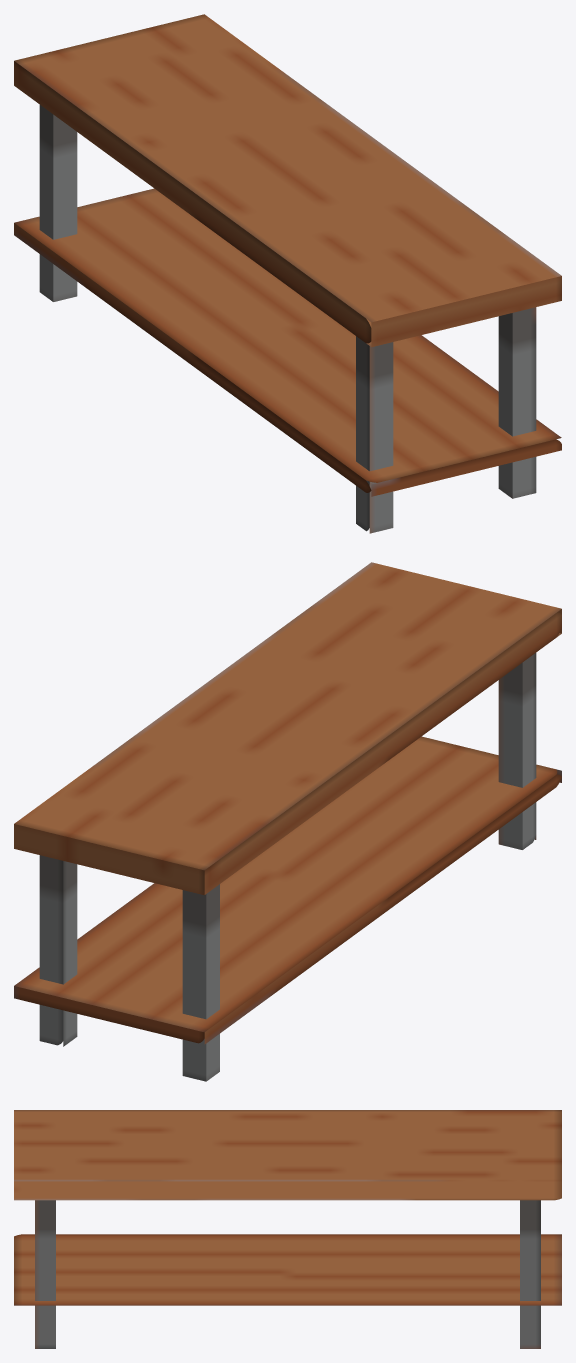
The model's file is Table.fbx.
The picture shows the model from 3 angles, top to bottom: view 1: azimuth 30°, elevation 25°; view 2: azimuth 150°, elevation 25°; view 3: azimuth 270°, elevation 25°; orthographic projection. The views are drawn at different scales.
Parts seen in each view (by area): view 1: cube, cube_1, cube_3, cube_4, cube_2; view 2: cube, cube_1, cube_2, cube_5, cube_3; view 3: cube, cube_1, cube_4, cube_5.
Part boxes in pixels (<box>): cube: <box>14,14,561,347</box>; cube_1: <box>14,188,561,496</box>; cube_3: <box>356,336,393,533</box>; cube_4: <box>498,307,536,498</box>; cube_2: <box>39,105,77,301</box>; cube: <box>14,562,561,895</box>; cube_1: <box>14,736,561,1044</box>; cube_2: <box>182,884,219,1081</box>; cube_5: <box>39,855,77,1046</box>; cube_3: <box>498,653,536,849</box>; cube: <box>14,1110,561,1200</box>; cube_1: <box>14,1234,561,1305</box>; cube_4: <box>35,1200,55,1348</box>; cube_5: <box>520,1200,540,1348</box>.
Bounding box in the file's own units: 100 × 112 × 325.
1 material, 1 textured.
